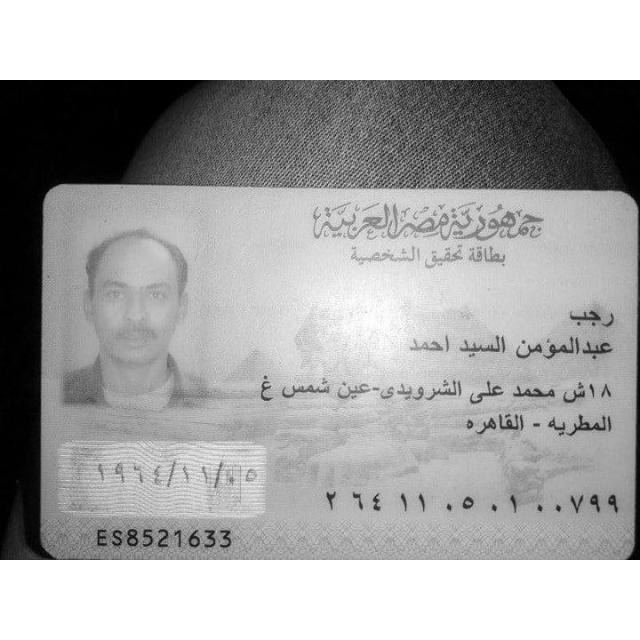id_card: (36, 184, 639, 559)
